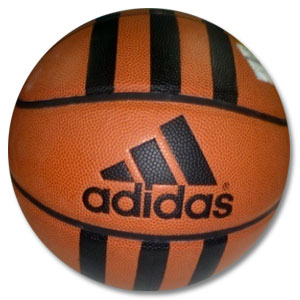basketball: (8, 8, 289, 292)
